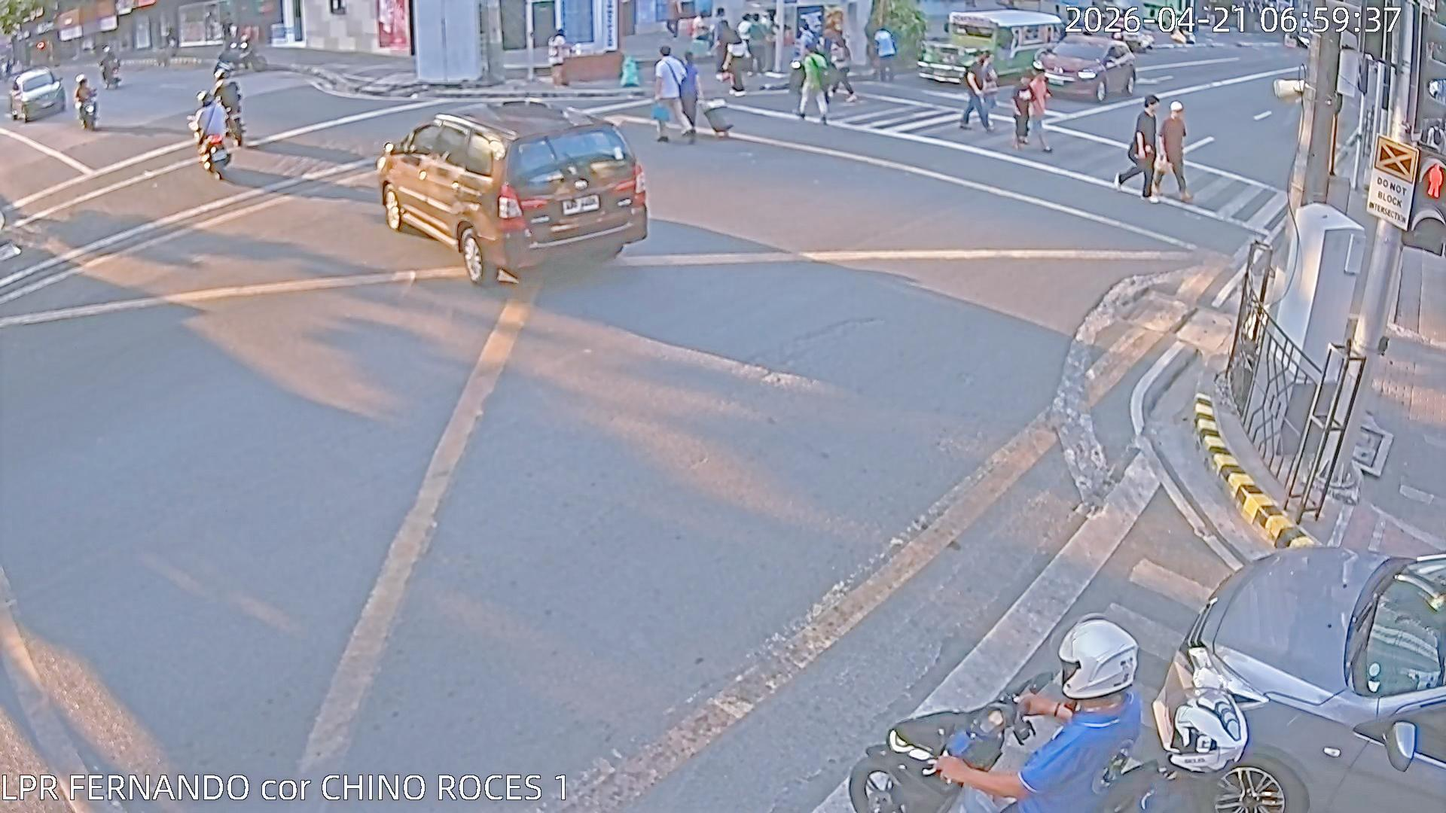Car: (1155, 550, 1442, 813), (374, 97, 644, 283), (1030, 35, 1136, 103), (6, 67, 66, 123)
Motor: (848, 666, 1052, 810), (192, 110, 233, 180), (209, 35, 271, 79), (97, 44, 132, 91), (222, 96, 248, 148), (74, 88, 100, 131)
